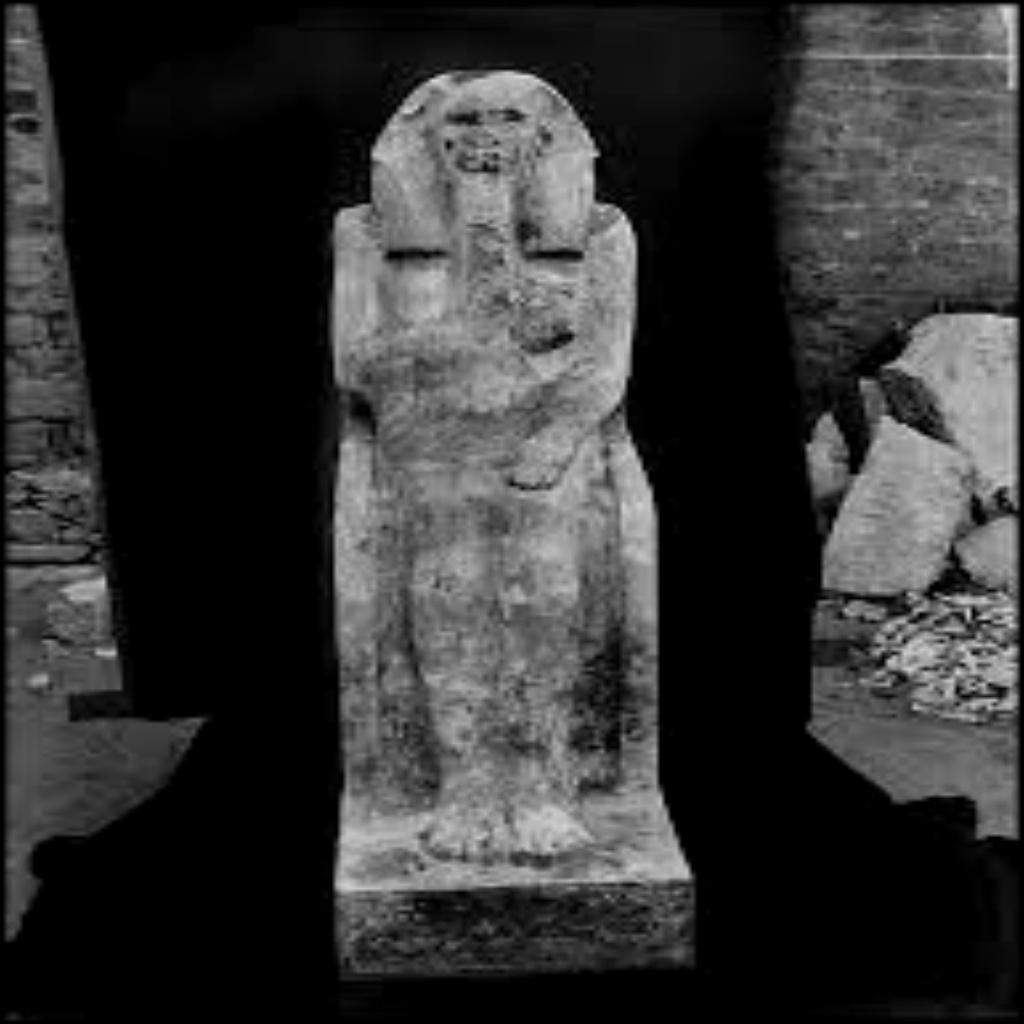Statue of King Zoser: (316, 64, 708, 988)
